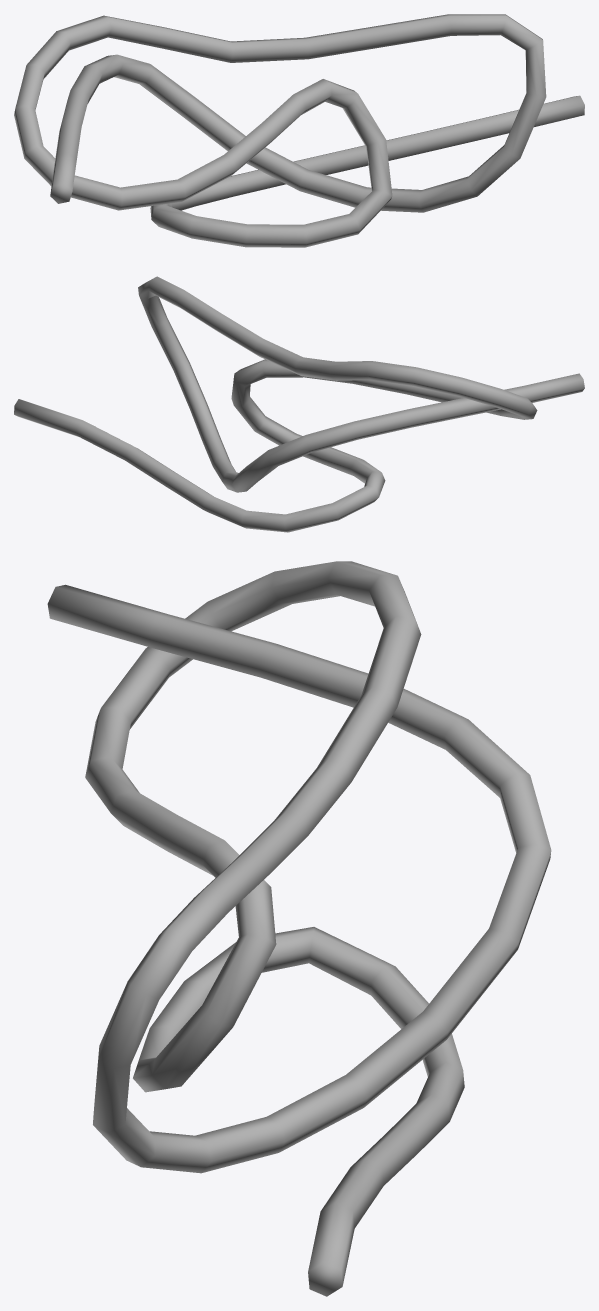
File: Wire.fbx
The picture shows the model from 3 angles, top to bottom: view 1: azimuth 30°, elevation 25°; view 2: azimuth 150°, elevation 25°; view 3: azimuth 270°, elevation 25°; orthographic projection. The views are drawn at different scales.
Visible parts, largest first — view 1: Wire; view 2: Wire; view 3: Wire.
Part boxes in pixels (<box>): Wire: <box>14,14,584,247</box>; Wire: <box>14,276,584,532</box>; Wire: <box>47,561,551,1296</box>.
Bounding box in the file's own units: 0.4871 × 0.397 × 1.12.
